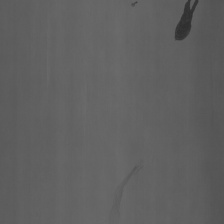oil_spot: (109, 161, 140, 224), (172, 0, 201, 44), (129, 1, 137, 9)
